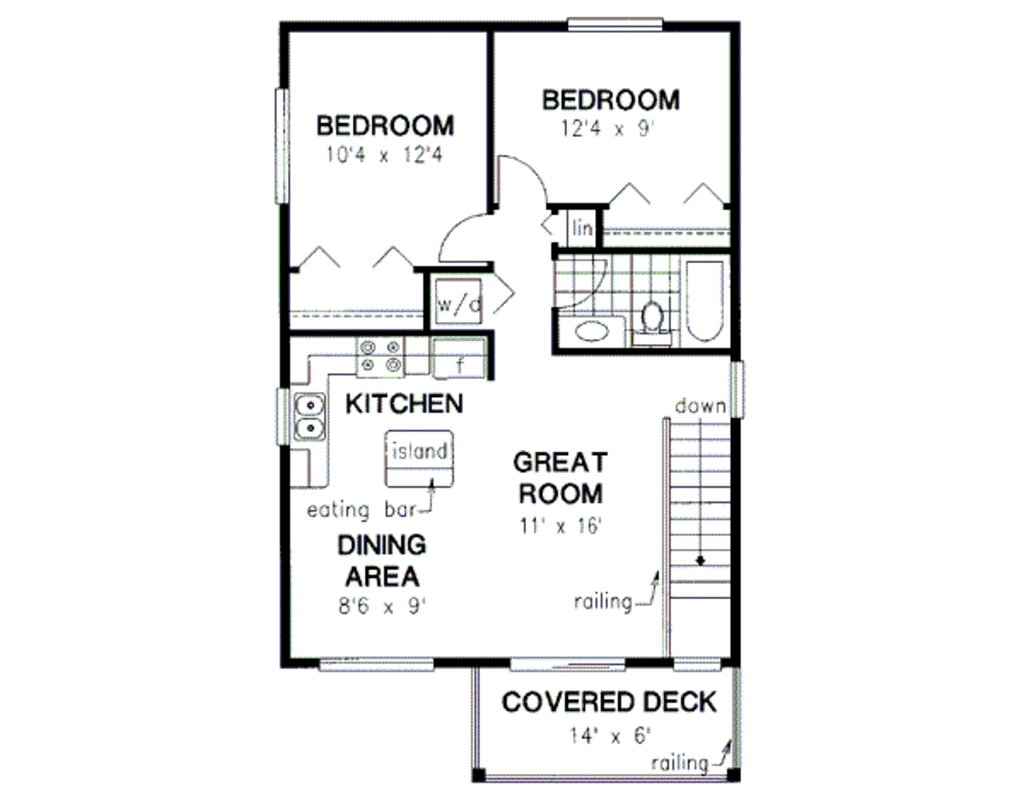door: (540, 241, 607, 312), (429, 205, 497, 263), (490, 152, 548, 205)
kitchen_bar: (376, 425, 470, 496)
large_sink: (627, 287, 681, 356)
small_sink: (552, 308, 638, 349)
stairs: (655, 414, 749, 660)
tub: (683, 249, 730, 345)
twin_sink: (285, 388, 338, 454)
window: (267, 82, 304, 208), (502, 650, 629, 679), (313, 651, 440, 677), (567, 14, 662, 39), (722, 354, 755, 413), (671, 657, 718, 677)
